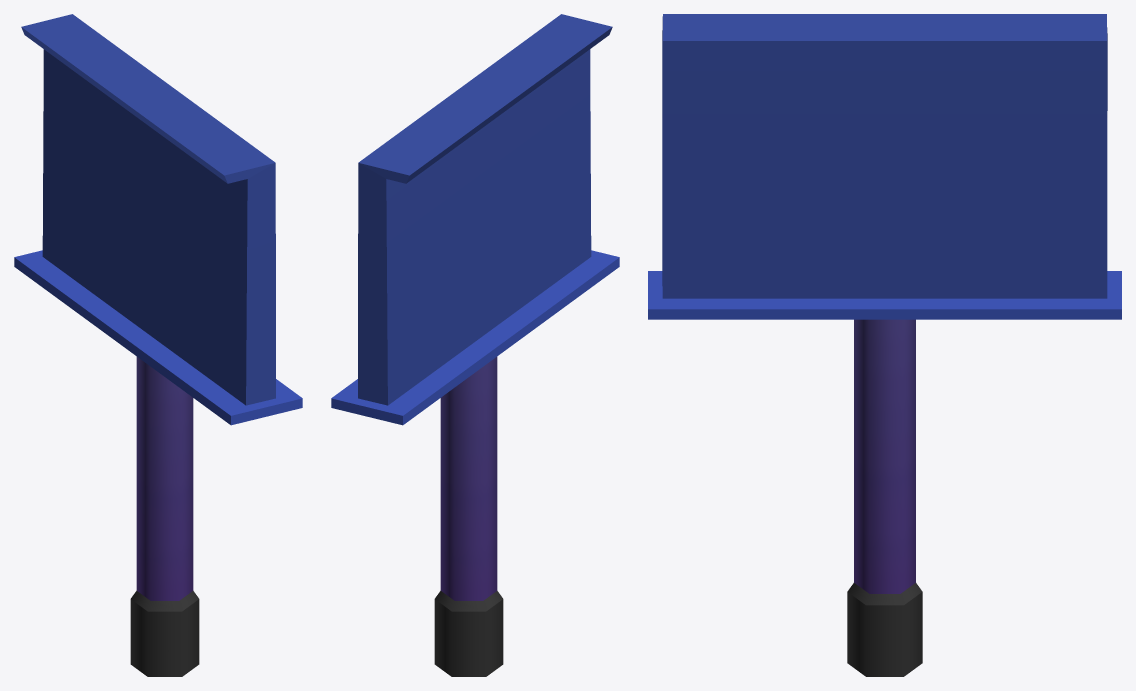
The model's file is Bilboard_2_B.fbx.
The picture shows the model from 3 angles, left to right: view 1: azimuth 30°, elevation 25°; view 2: azimuth 150°, elevation 25°; view 3: azimuth 270°, elevation 25°; orthographic projection. The views are drawn at different scales.
Visible parts, largest first — view 1: Bilboard_2_B; view 2: Bilboard_2_B; view 3: Bilboard_2_B.
Boxes of the visible parts, bbox=[...] form: Bilboard_2_B: bbox=[14, 14, 302, 676]; Bilboard_2_B: bbox=[331, 14, 619, 676]; Bilboard_2_B: bbox=[648, 14, 1121, 676].
Size of the model in its own units: 80.53 by 615 by 421.
